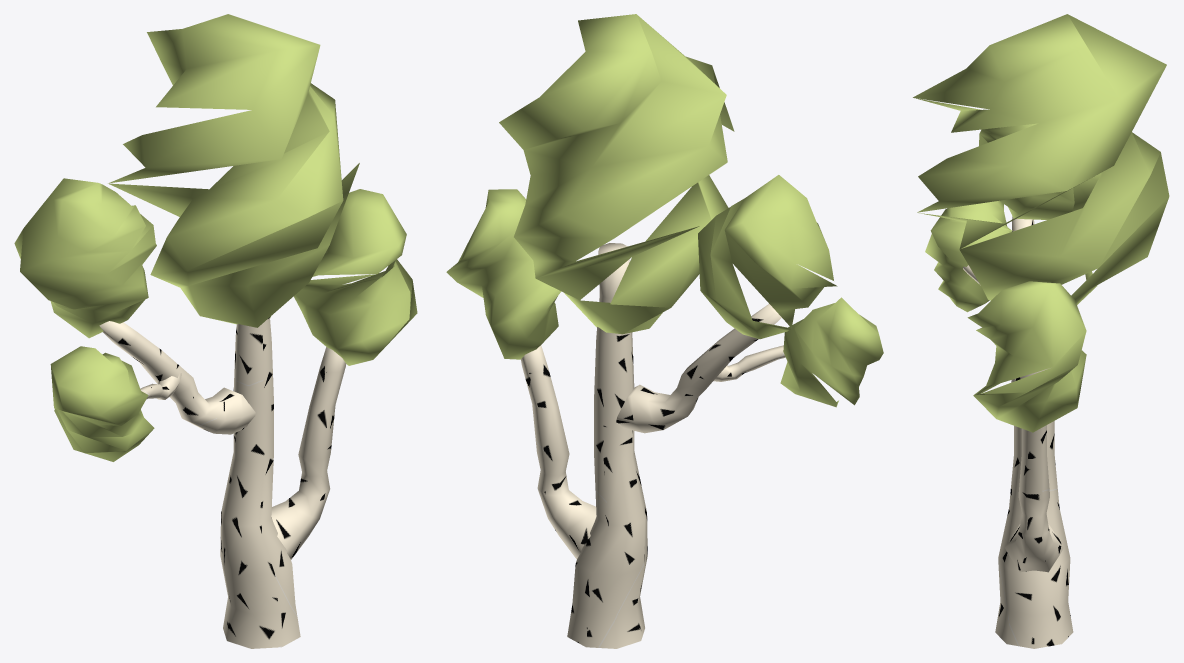
3 views of the same model, side by side, from view 1: azimuth 30°, elevation 25°; view 2: azimuth 150°, elevation 25°; view 3: azimuth 270°, elevation 25° (orthographic). The views are drawn at different scales.
Visible parts, largest first — view 1: Tree.1; view 2: Tree.1; view 3: Tree.1.
Boxes of the visible parts, bbox=[...] form: Tree.1: bbox=[14, 14, 417, 648]; Tree.1: bbox=[446, 14, 883, 648]; Tree.1: bbox=[913, 14, 1169, 648].
Size of the model in its own units: 504 by 754 by 298.
2 materials, 1 textured.
